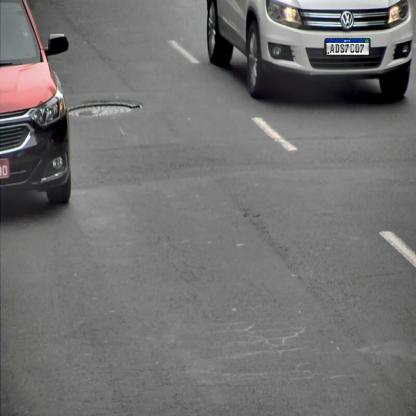PlacaM: (326, 38, 370, 56)
